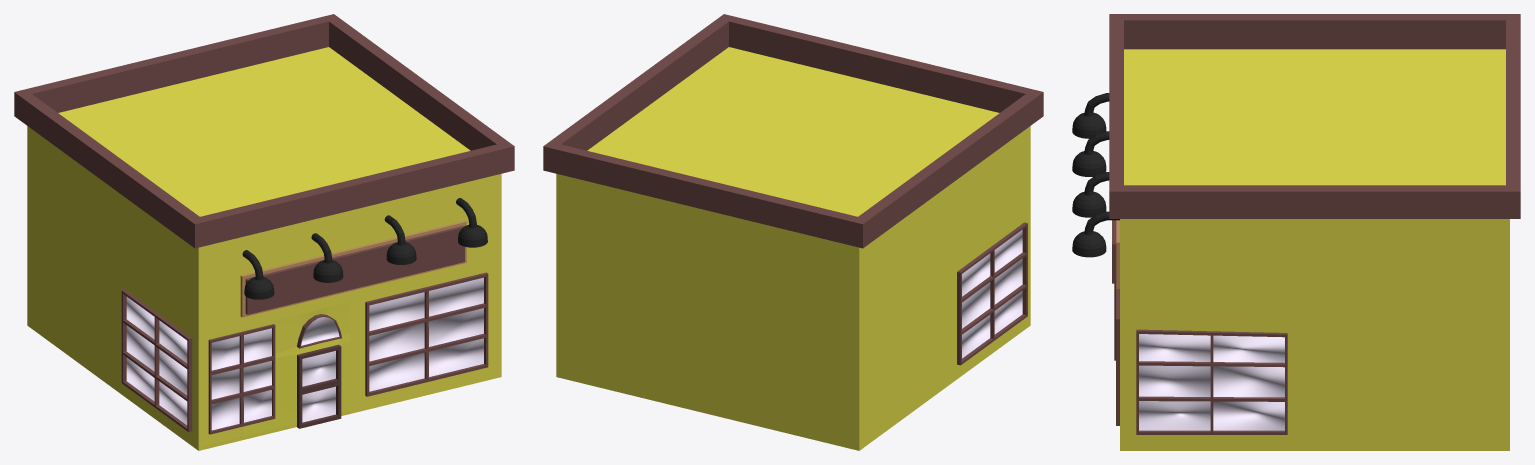
The model's file is Cafe Final yellow.fbx.
3 renders of one model, left to right at view 1: azimuth 30°, elevation 25°; view 2: azimuth 150°, elevation 25°; view 3: azimuth 270°, elevation 25°, orthographic. The views are drawn at different scales.
Visible parts, largest first — view 1: Plane.022; view 2: Plane.022; view 3: Plane.022.
Boxes of the visible parts, x1,y1,x2,y2 form: Plane.022: (14, 14, 514, 450); Plane.022: (543, 14, 1043, 450); Plane.022: (1072, 14, 1520, 450).
Bounding box in the file's own units: 4286 × 2973 × 4576.
